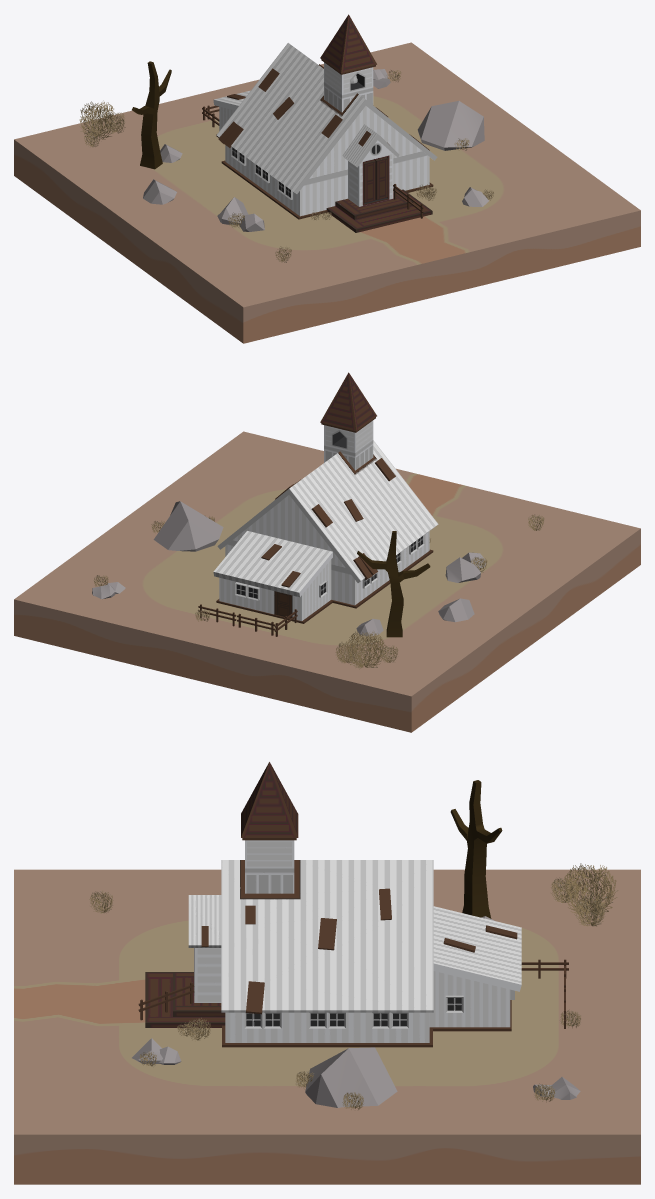
The model's file is Chapel and Environment .obj.
The picture shows the model from 3 angles, top to bottom: view 1: azimuth 30°, elevation 25°; view 2: azimuth 150°, elevation 25°; view 3: azimuth 270°, elevation 25°; orthographic projection. The views are drawn at different scales.
Visible parts, largest first — view 1: Environment, Chapel, Bush15, Door, Door1; view 2: Environment, Chapel, Bush15, Fence; view 3: Environment, Chapel, Bush15.
Part boxes in pixels (box(x1,y1,x2,y2)): Environment: box(14, 42, 640, 343); Chapel: box(213, 14, 437, 232); Bush15: box(79, 70, 493, 262); Door: box(375, 157, 387, 199); Door1: box(364, 160, 375, 203); Environment: box(14, 431, 640, 732); Chapel: box(213, 372, 438, 623); Bush15: box(93, 483, 544, 669); Fence: box(198, 604, 297, 636); Environment: box(14, 780, 640, 1184); Chapel: box(138, 762, 521, 1047); Bush15: box(89, 863, 618, 1109).
Size of the model in its own units: 1948 by 996 by 1947.
Materials: 3 (3 with a texture image).
